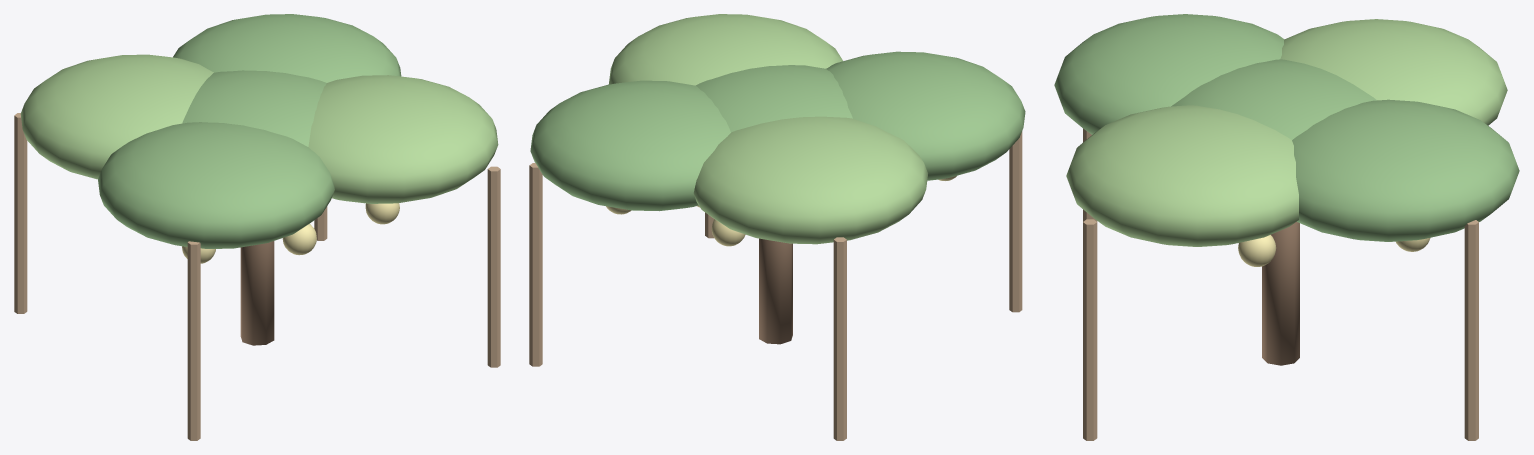
The model's file is pear_tree.glb.
The picture shows the model from 3 angles, left to right: view 1: azimuth 30°, elevation 25°; view 2: azimuth 150°, elevation 25°; view 3: azimuth 270°, elevation 25°; orthographic projection. The views are drawn at different scales.
Parts seen in each view (by area): view 1: pear_tree; view 2: pear_tree; view 3: pear_tree.
Part boxes in pixels (x1=…): pear_tree: x1=14, y1=14, x2=500, y2=440; pear_tree: x1=529, y1=14, x2=1025, y2=440; pear_tree: x1=1054, y1=14, x2=1519, y2=440.
Bounding box in the file's own units: 4 × 2.52 × 3.9.
